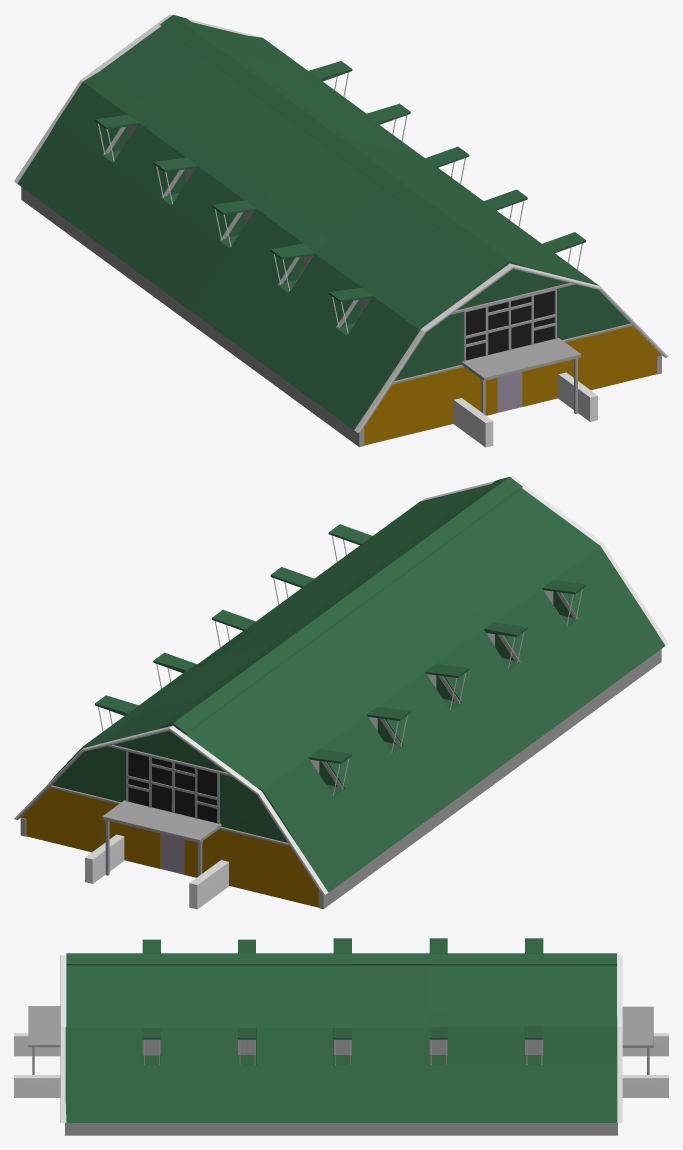
Rendered from Warehouse_middle_high.fbx.
The picture shows the model from 3 angles, top to bottom: view 1: azimuth 30°, elevation 25°; view 2: azimuth 150°, elevation 25°; view 3: azimuth 270°, elevation 25°; orthographic projection. The views are drawn at different scales.
Visible parts, largest first — view 1: pCube56; view 2: pCube56; view 3: pCube56.
Boxes of the visible parts, box(x1,y1,x2,y2) form: pCube56: box(14, 14, 668, 447); pCube56: box(14, 476, 668, 909); pCube56: box(14, 938, 668, 1135).
Bounding box in the file's own units: 800 × 367 × 1781.
